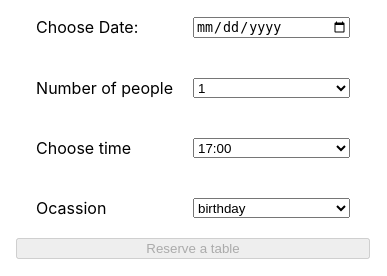
it: Reserve table function is enabled when data is entered
Type "2023-09-09" into the date field labelled "Choose Date:" at {"x": 271, "y": 27}, box [193,17,350,38]
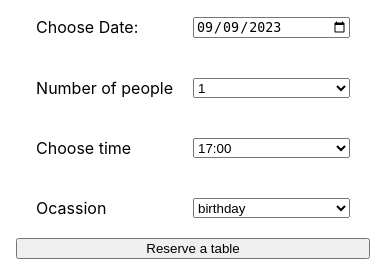
expect the button "Reserve a table" is enabled: met, box [16,238,370,259]
